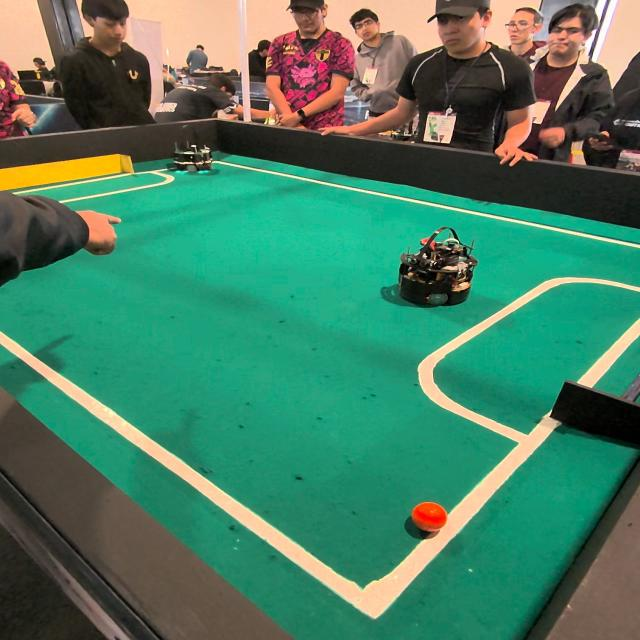Robot: (399, 228, 479, 312), (165, 121, 215, 175)
pelota: (408, 505, 446, 534)
